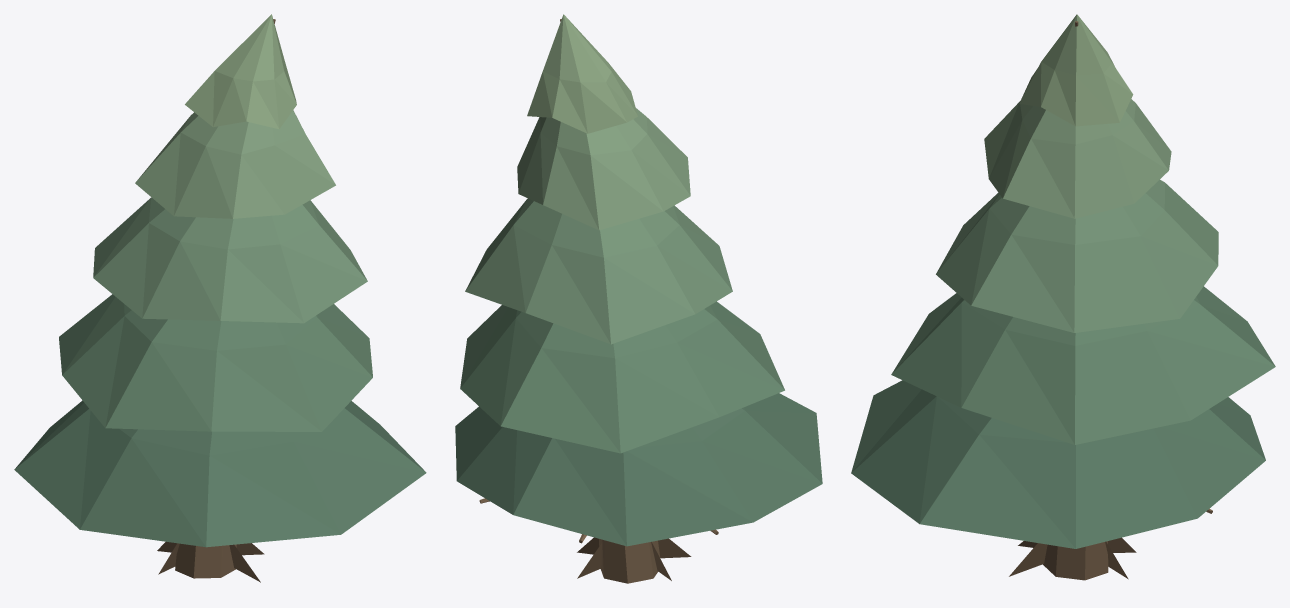
Rendered from pine_1.glb.
The picture shows the model from 3 angles, left to right: view 1: azimuth 30°, elevation 25°; view 2: azimuth 150°, elevation 25°; view 3: azimuth 270°, elevation 25°; orthographic projection. The views are drawn at different scales.
Visible parts, largest first — view 1: foliage-0, foliage-1, foliage-2, surface; view 2: foliage-0, foliage-1, foliage-2, surface; view 3: foliage-0, foliage-1, foliage-2, surface.
Boxes of the visible parts, x1,y1,x2,y2 form: foliage-0: (14,110,426,547); foliage-1: (59,14,372,431); foliage-2: (93,197,367,323); surface: (157,19,275,582); foliage-0: (455,108,822,546); foliage-1: (460,14,784,453); foliage-2: (465,198,732,344); surface: (479,19,718,583); foliage-0: (851,99,1265,548); foliage-1: (891,14,1275,444); foliage-2: (936,179,1218,332); surface: (1009,21,1212,580).
Bounding box in the file's own units: 3.65 × 5.63 × 3.69.
